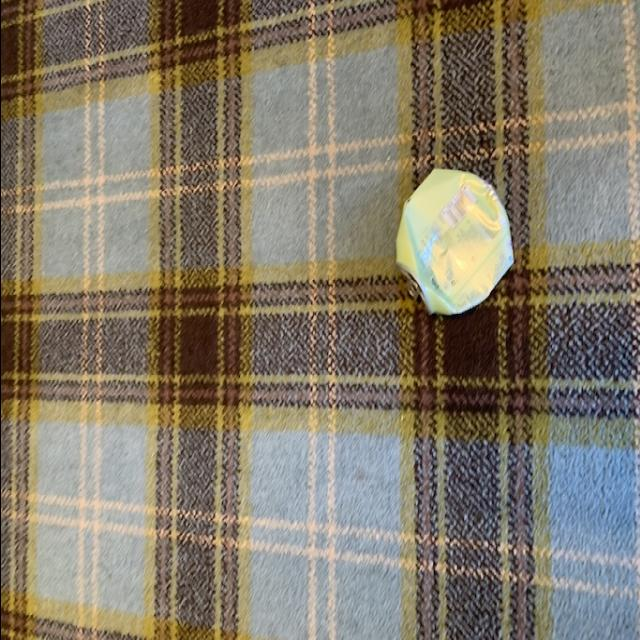litter: (384, 166, 514, 328)
